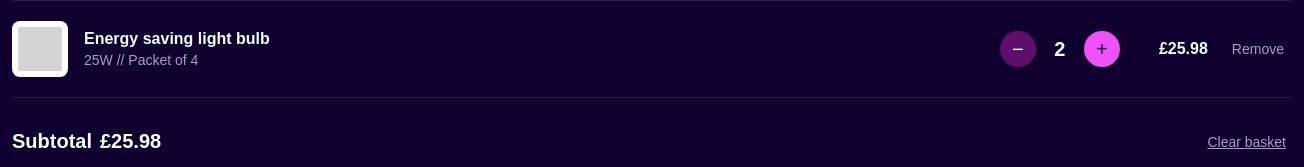
BasketView › clears the basket
Click the button "Clear basket".
click(1247, 142)  # box [1201,132,1292,150]
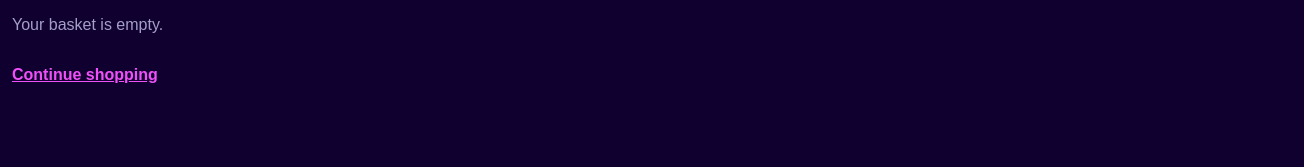
Expected: the text "Your basket is empty." is shown, [12,16,163,34]
